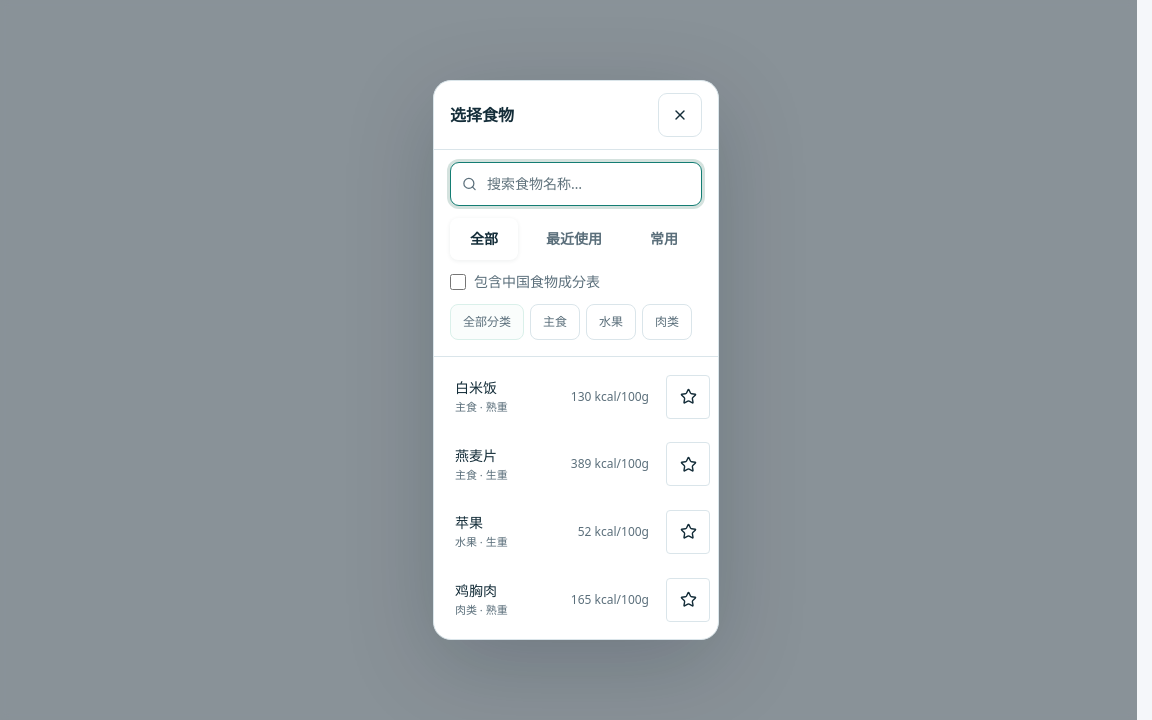
Test: FoodPickerDialog（先选分类，再选食物） › filters the list to a single category when its chip is clicked
Click the button "水果": click(611, 322) [586, 304, 636, 340]
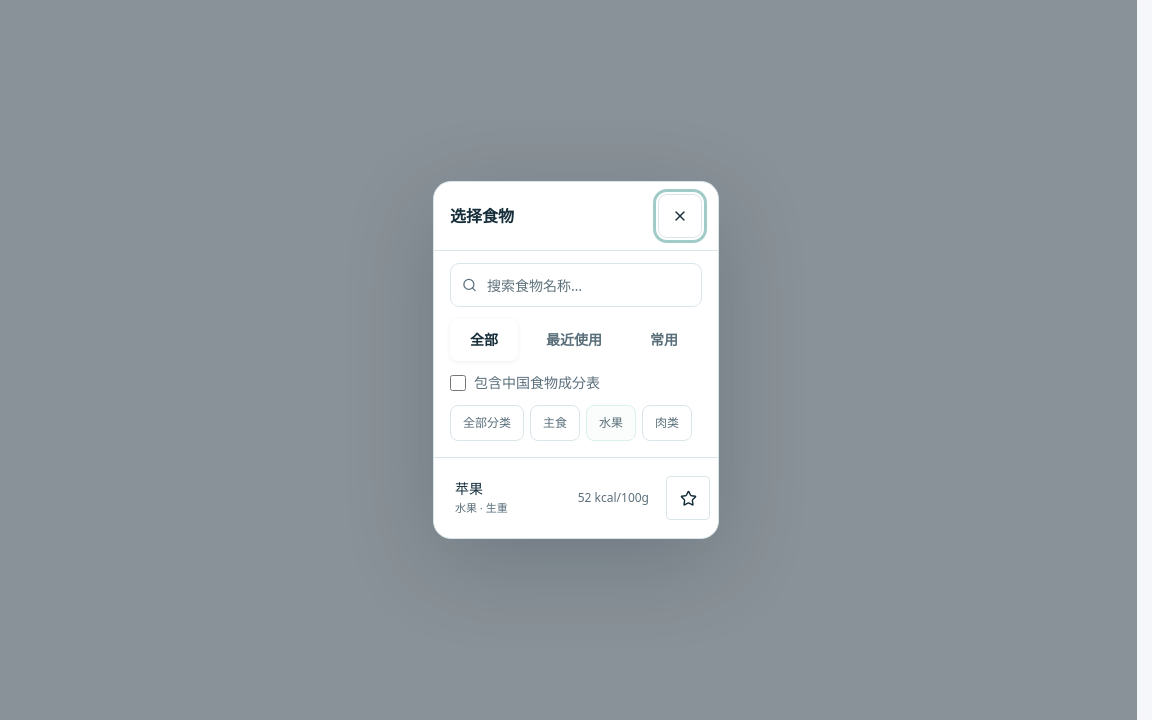
Expected: the text "苹果" is shown, [455, 479, 483, 498]
Expected: the button "白米饭" is gone
Expected: the button "鸡胸肉" is gone
